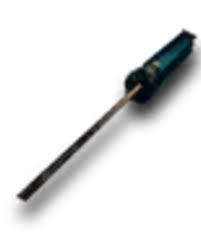screwdriver: (15, 27, 197, 203)
